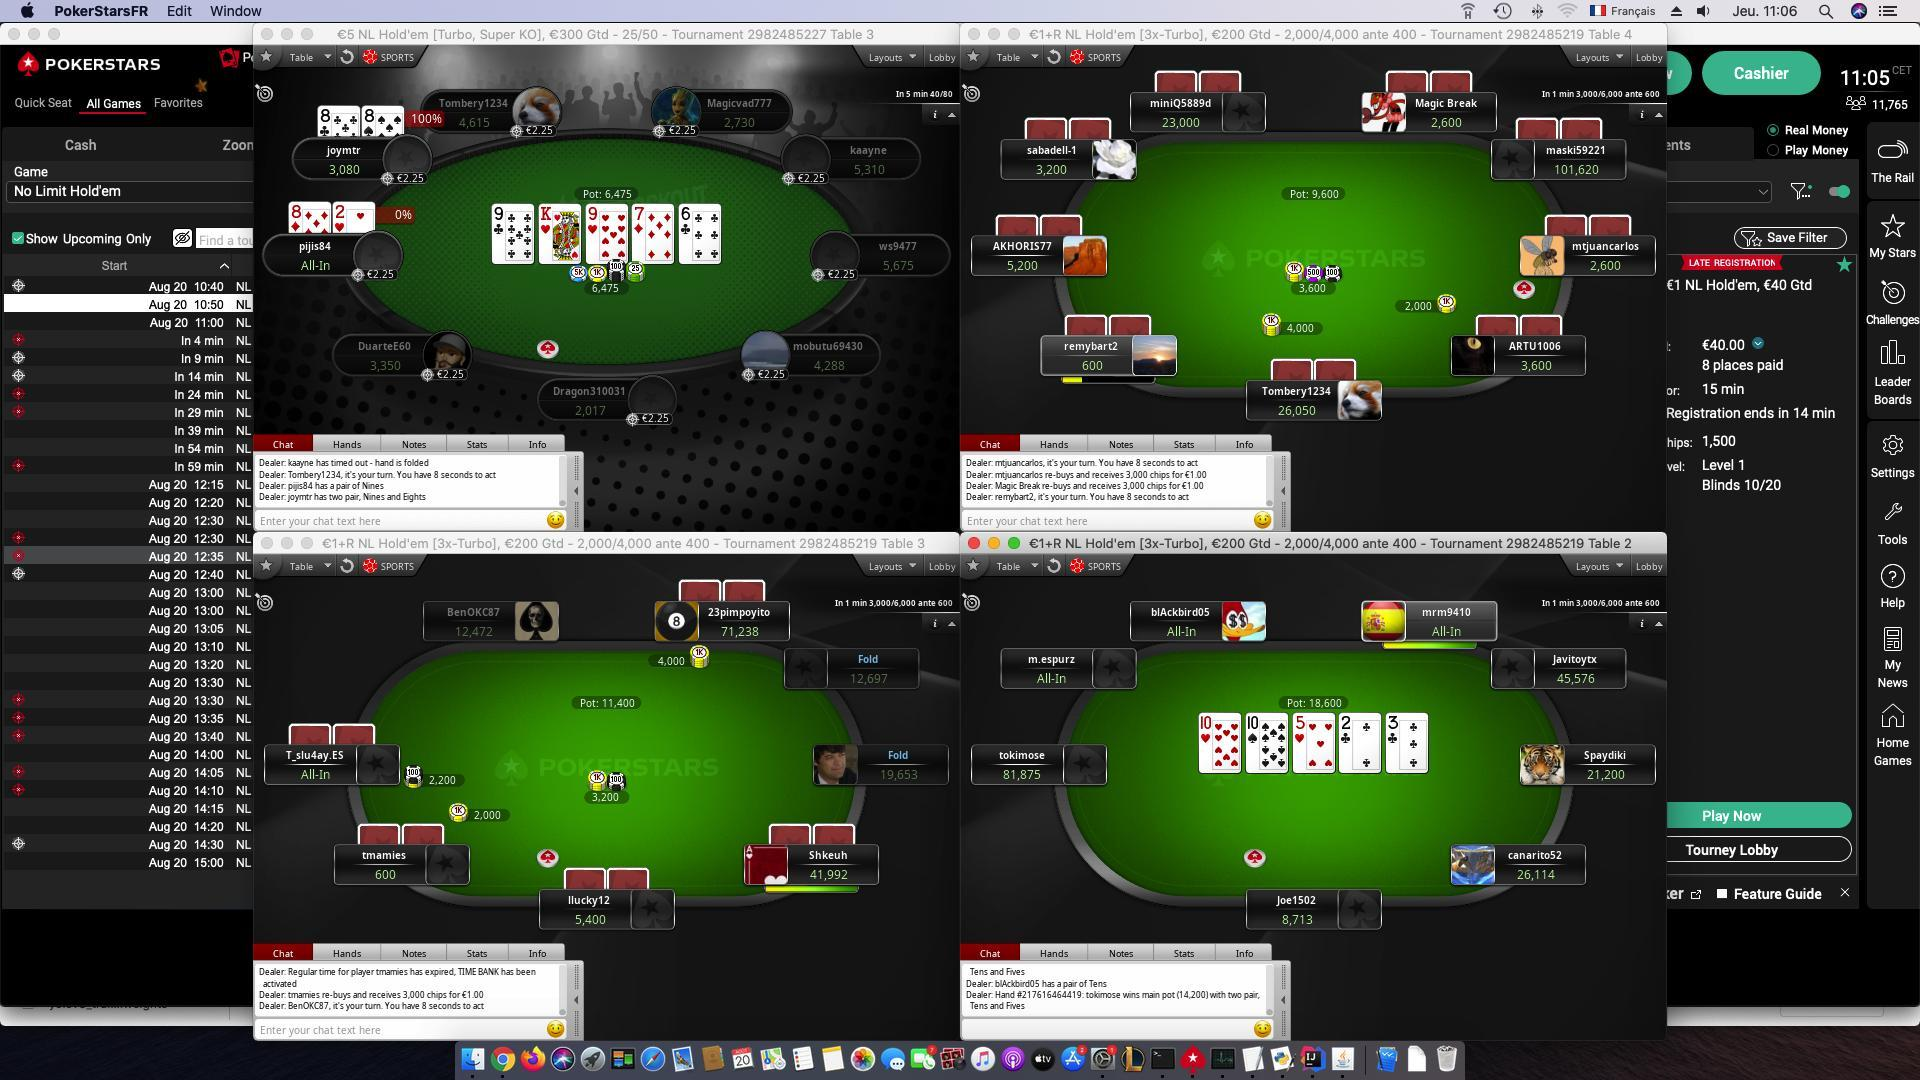10H: (1193, 708, 1215, 744)
10S: (1244, 711, 1263, 748)
2C: (1335, 711, 1356, 746)
2H: (334, 196, 349, 237)
3C: (1386, 708, 1402, 746)
5H: (1290, 715, 1309, 746)
6C: (676, 203, 698, 239)
7D: (629, 199, 647, 236)
8C: (315, 103, 335, 136)
8D: (285, 199, 309, 237)
8S: (357, 104, 380, 136)
9C: (488, 203, 509, 239)
9H: (585, 200, 604, 235)
KH: (533, 200, 554, 236)
